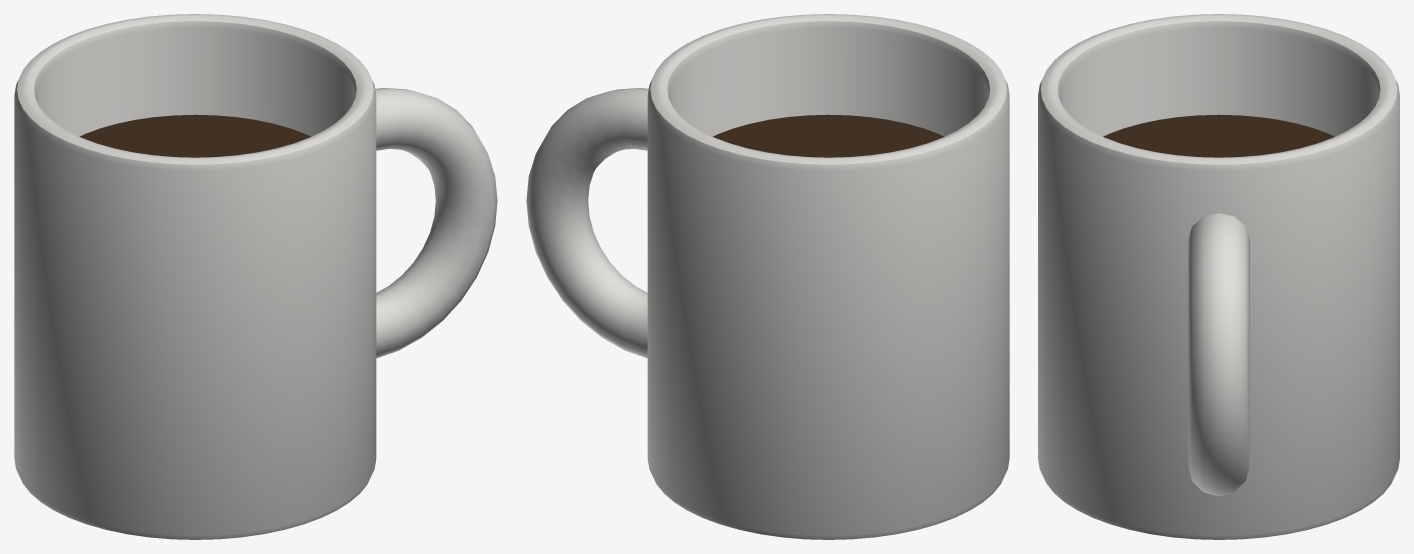
Rendered from mug_coffee.glb.
The picture shows the model from 3 angles, left to right: view 1: azimuth 30°, elevation 25°; view 2: azimuth 150°, elevation 25°; view 3: azimuth 270°, elevation 25°; orthographic projection.
Parts seen in each view (by area): view 1: mug_coffee; view 2: mug_coffee; view 3: mug_coffee.
Part boxes in pixels (bbox=[...]): mug_coffee: bbox=[14, 14, 497, 539]; mug_coffee: bbox=[526, 14, 1009, 539]; mug_coffee: bbox=[1038, 14, 1399, 539].
Bounding box in the file's own units: 0.119 × 0.095 × 0.082.
